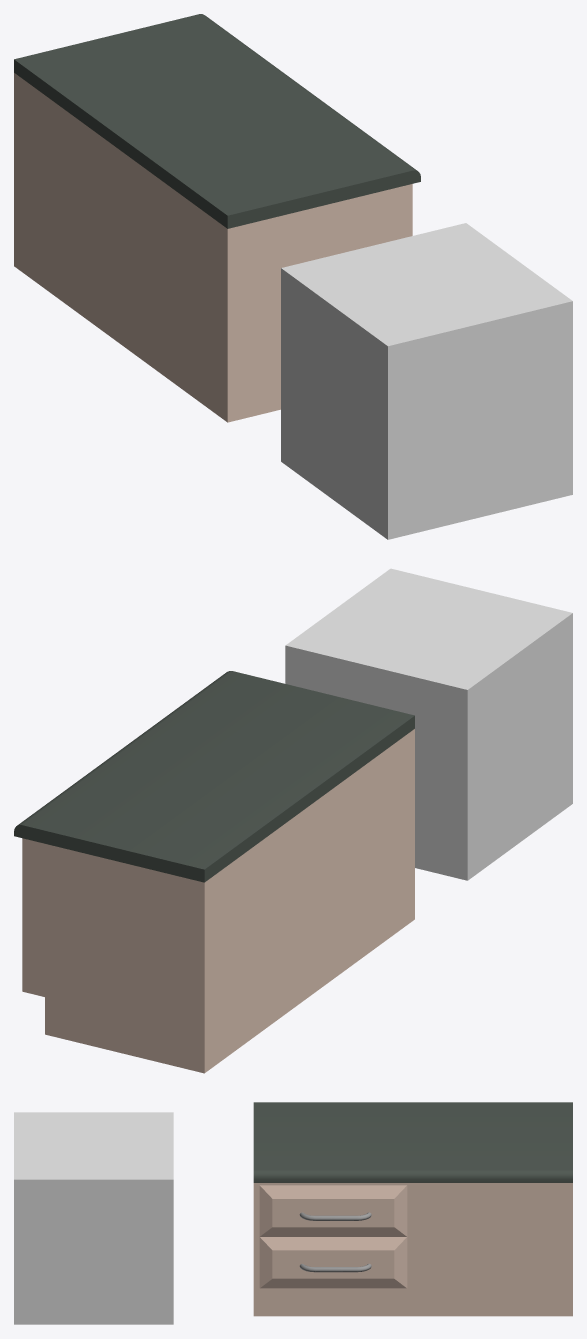
The model's file is Aanrecht.fbx.
3 views of the same model, one above another, from view 1: azimuth 30°, elevation 25°; view 2: azimuth 150°, elevation 25°; view 3: azimuth 270°, elevation 25° (orthographic). The views are drawn at different scales.
Parts seen in each view (by area): view 1: Cube.005, Cube, Cube.004, Cube.007, Cube.006; view 2: Cube.006, Cube.005, Cube.007, Cube.004, Cube; view 3: Cube.005, Cube.006, Cube.004, Cube.007, Cube.001, Cube.002, Cube, Cube.003, Cube.011.
Boxes of the visible parts, <box> form: Cube.005: <box>281,223,572,539</box>; Cube: <box>121,151,412,422</box>; Cube.004: <box>121,92,420,228</box>; Cube.007: <box>14,14,310,150</box>; Cube.006: <box>14,73,120,344</box>; Cube.006: <box>22,806,309,1073</box>; Cube.005: <box>285,568,572,880</box>; Cube.007: <box>14,748,309,882</box>; Cube.004: <box>122,671,414,805</box>; Cube: <box>309,729,414,995</box>; Cube.005: <box>14,1112,173,1324</box>; Cube.006: <box>413,1183,572,1316</box>; Cube.004: <box>253,1102,413,1182</box>; Cube.007: <box>413,1102,572,1182</box>; Cube.001: <box>259,1185,407,1236</box>; Cube.002: <box>259,1237,407,1288</box>; Cube: <box>253,1183,413,1316</box>; Cube.003: <box>299,1212,371,1220</box>; Cube.011: <box>299,1263,371,1272</box>.
Size of the model in its own units: 221 by 214 by 700.
